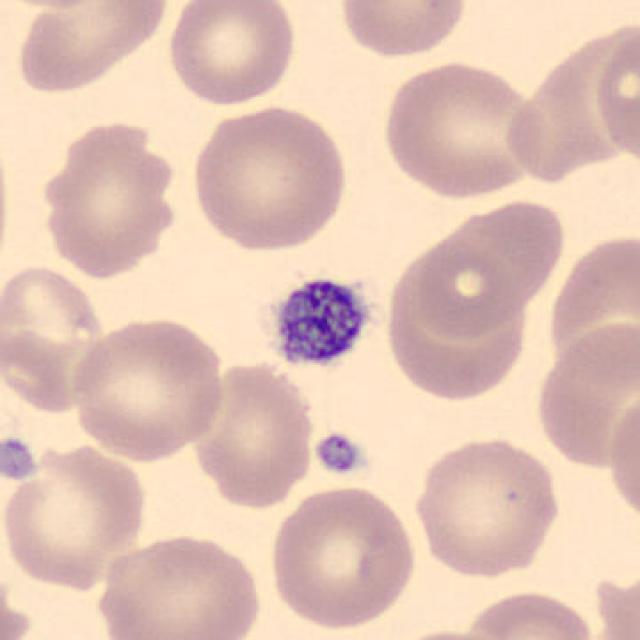Platelets: (263, 271, 377, 374), (311, 430, 370, 476), (0, 431, 39, 482)
RBC: (382, 234, 542, 395), (187, 102, 352, 254), (377, 56, 549, 201), (68, 312, 228, 462), (36, 117, 182, 280), (265, 481, 419, 633), (0, 437, 151, 591), (409, 432, 563, 580), (411, 195, 562, 338), (187, 358, 318, 511), (92, 529, 265, 640), (0, 261, 112, 416), (530, 318, 638, 472), (9, 0, 172, 97), (544, 226, 640, 386), (161, 0, 300, 109), (334, 0, 473, 62), (590, 16, 638, 174), (457, 587, 597, 640), (604, 384, 640, 534), (587, 566, 638, 640), (377, 626, 519, 640), (0, 130, 12, 289), (0, 0, 126, 12)
